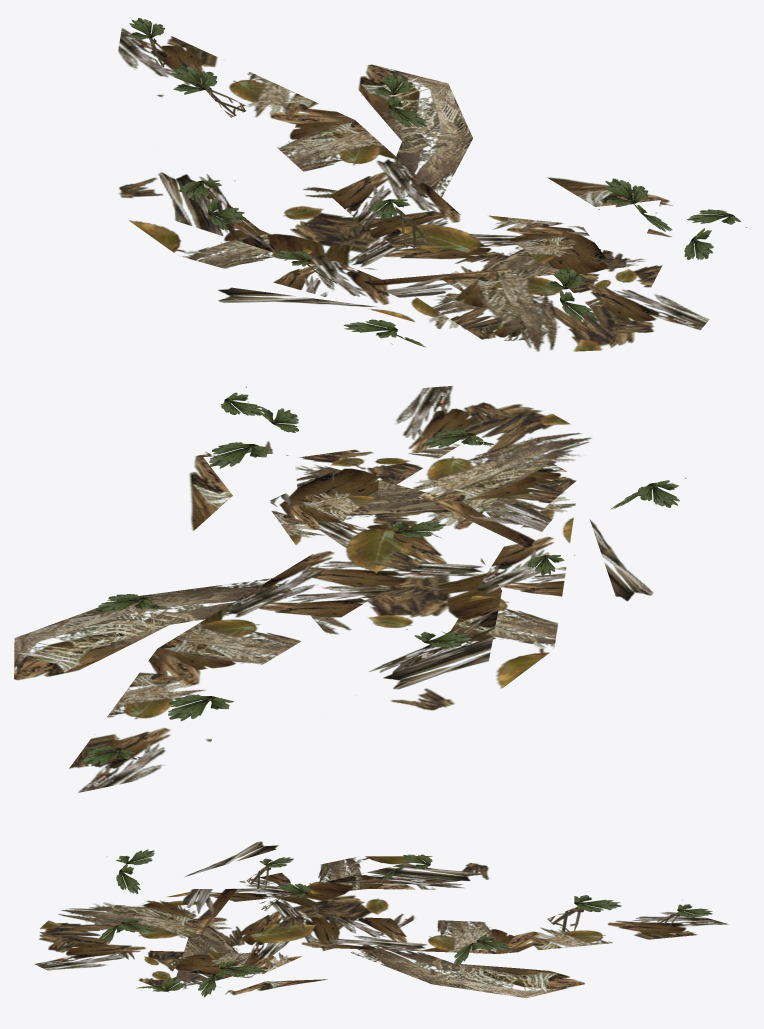
File: desert_grass4.glb
3 renders of one model, top to bottom at view 1: azimuth 30°, elevation 25°; view 2: azimuth 150°, elevation 25°; view 3: azimuth 270°, elevation 25°, orthographic. The views are drawn at different scales.
Visible parts, largest first — view 1: ivy_beech_forest_01_2_LOD1; view 2: ivy_beech_forest_01_2_LOD1; view 3: ivy_beech_forest_01_2_LOD1.
Part boxes in pixels (x1,y1,x2,y2): ivy_beech_forest_01_2_LOD1: [118, 18, 747, 351]; ivy_beech_forest_01_2_LOD1: [14, 385, 686, 792]; ivy_beech_forest_01_2_LOD1: [34, 841, 728, 998].
Bounding box in the file's own units: 2.22 × 0.2055 × 3.71.
Materials: 1 (1 with a texture image).
